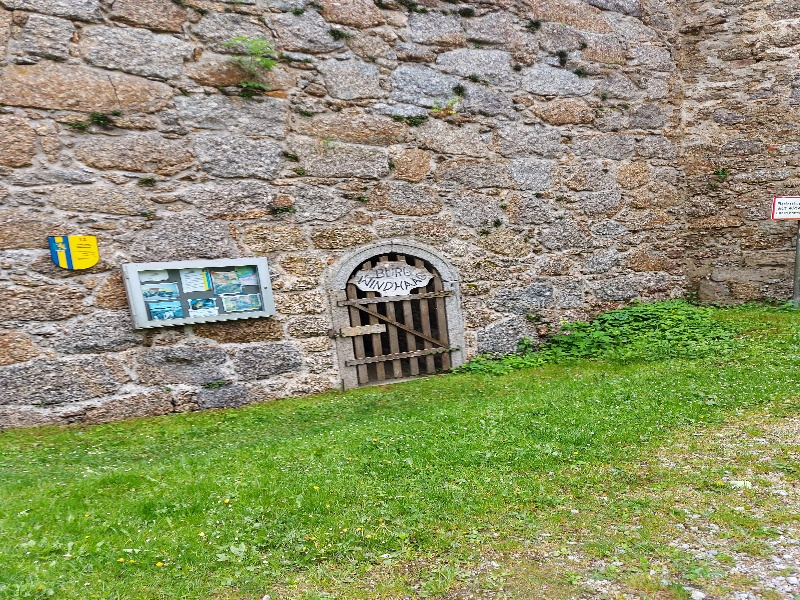dungeon: (312, 215, 478, 391)
